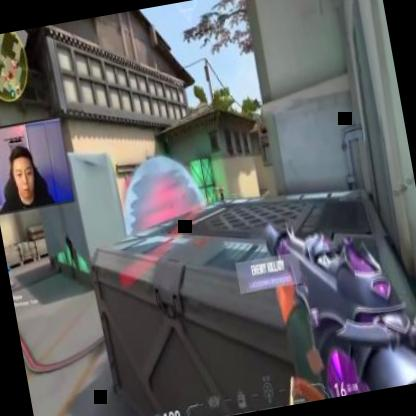enemy: (217, 180, 227, 208)
enemy_head: (219, 180, 222, 186)
